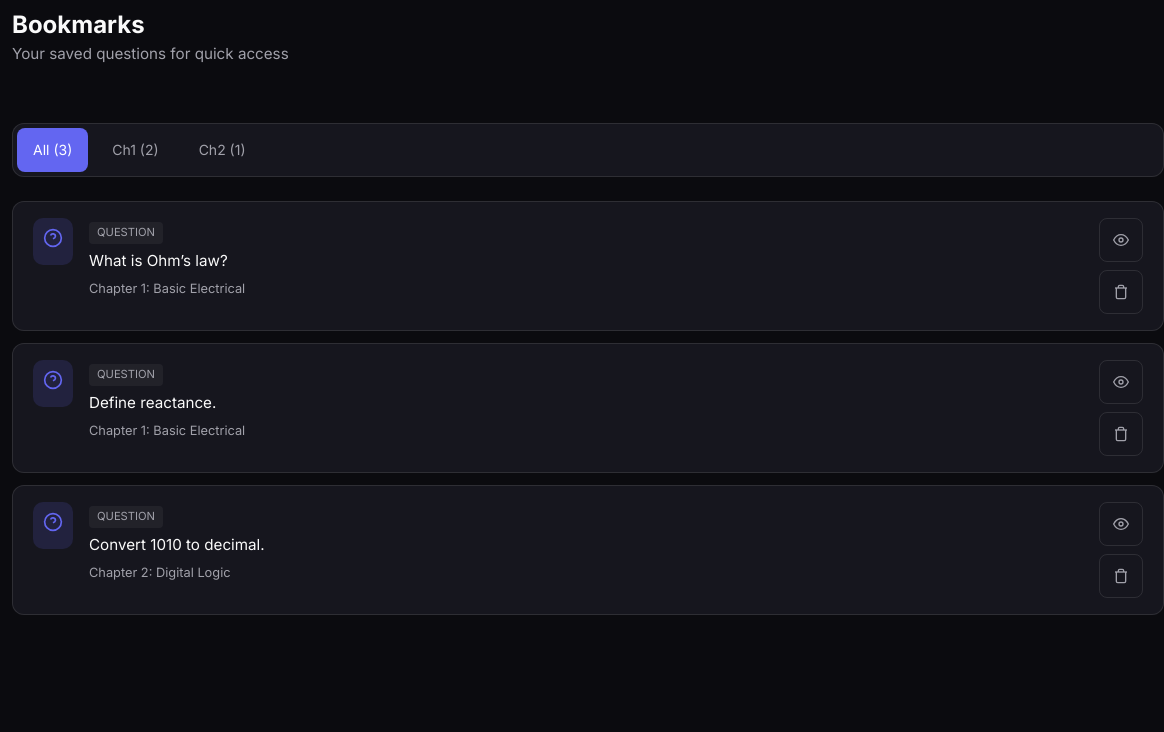
Bookmarks filters › falls back to All when the filtered chapter runs out of bookmarks
Expected: the element named "Filter saved questions by chapter" is shown, [12,123,1163,177]
What coordinates should you click on to do the following:
click the button "Ch2 (1)"
I would click on:
 (222, 150)
Its box is [183,128,262,172].
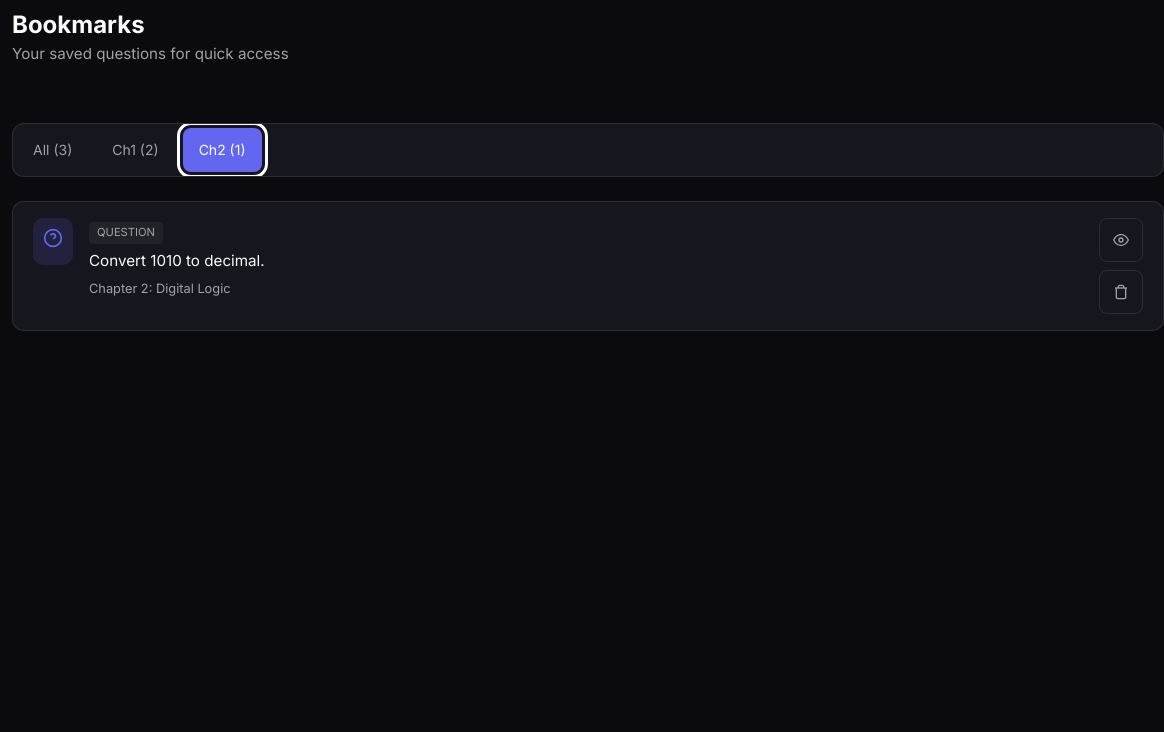
What coordinates should you click on to do the following:
click the button named "Remove bookmark: Convert 1010 to decimal."
I would click on:
 (1121, 292)
Its box is [1099,270,1143,314].
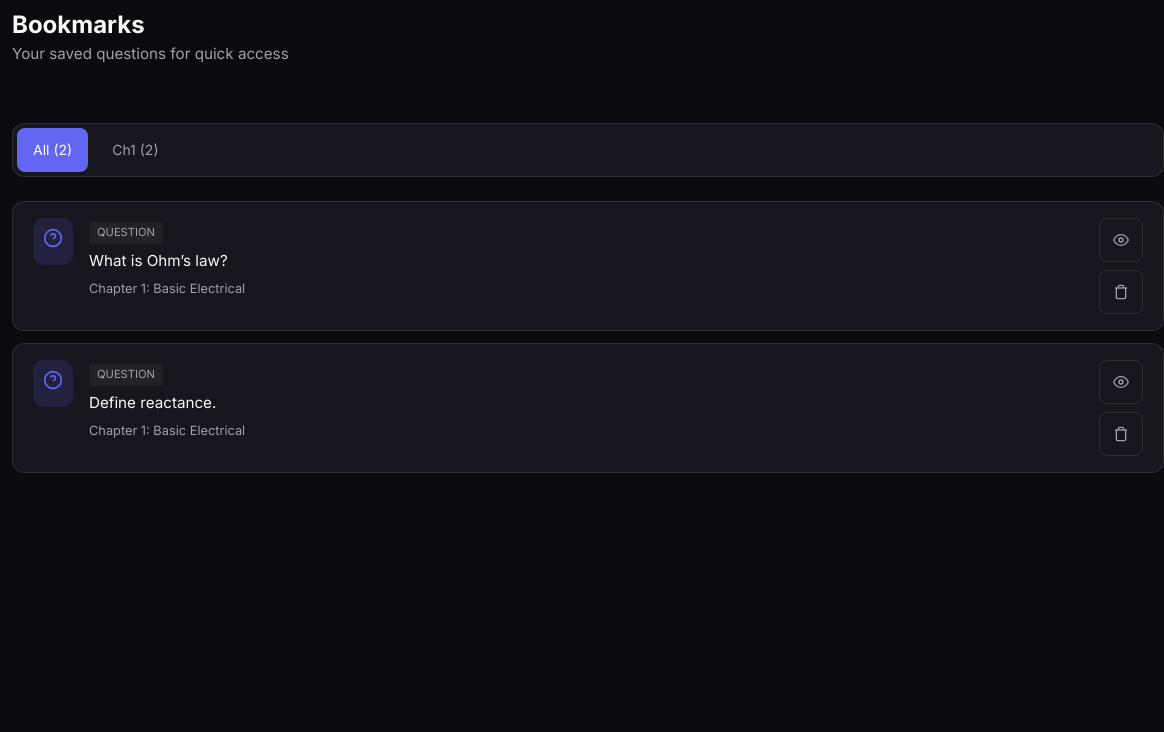
Expected: the number of buttons named "Remove bookmark:" is 2, [1099,270,1143,314]; [1099,412,1143,456]
